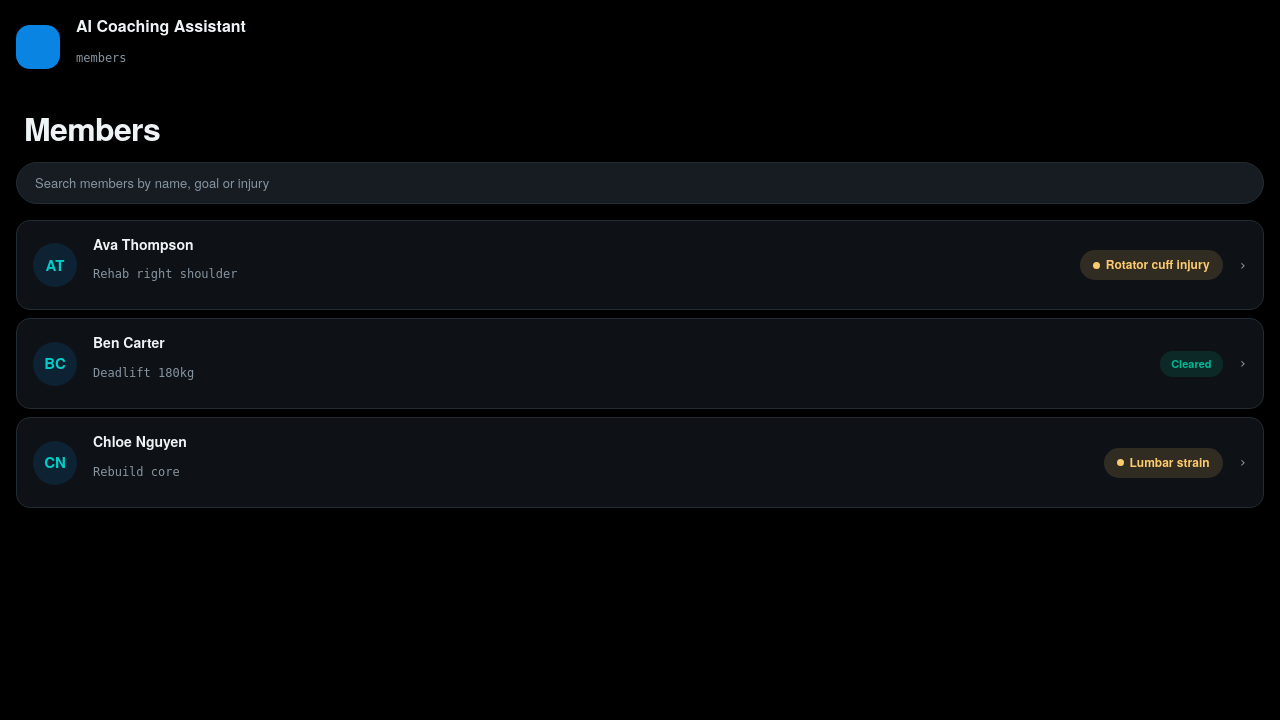
it: selecting a member opens the overview hub with rail, injury, metrics, goals and tabs
Step 1. Click the button "AT Ava Thompson Rehab right shoulder Rotator cuff injury ›" → point(55, 265), box [16, 220, 1264, 310]
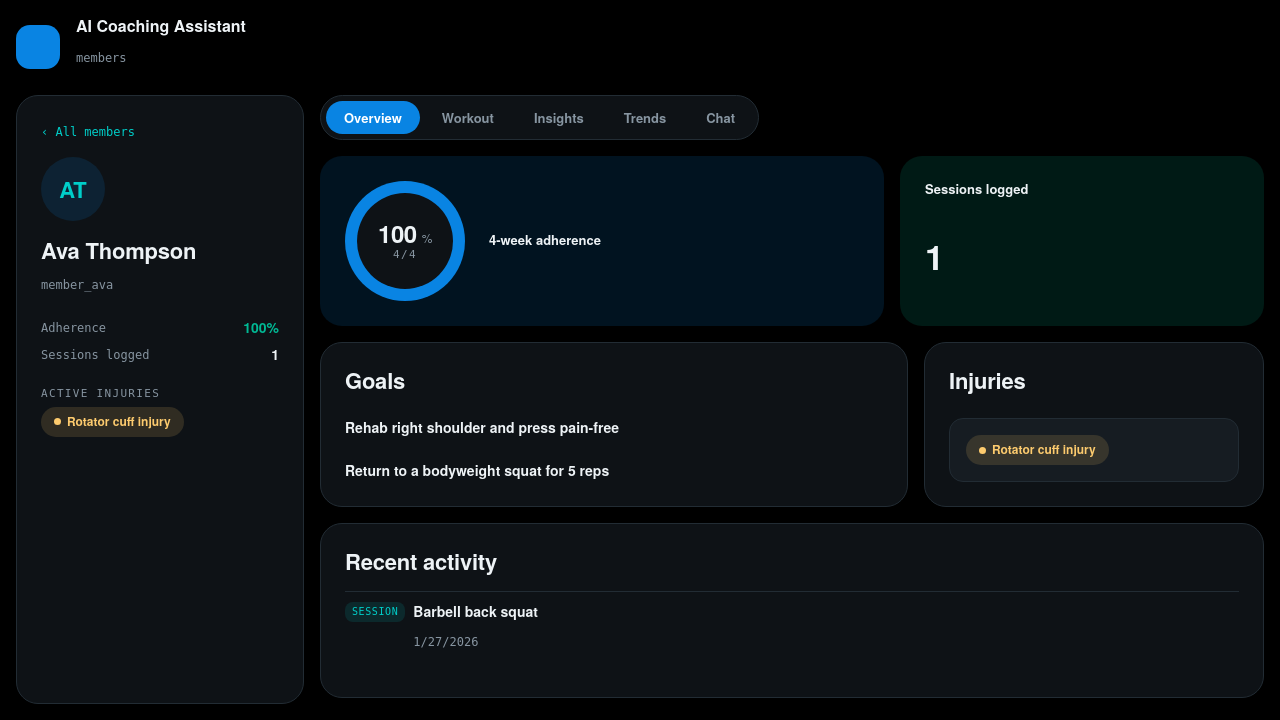
Expected: the text "Rehab right shoulder and press pain-free" is shown, [345, 417, 619, 437]
Expected: the element that starts with "‹ All members" is shown, [16, 95, 304, 704]
Expected: the element showing "Overview Workout Insights Trends Chat" is shown, [320, 95, 759, 140]
